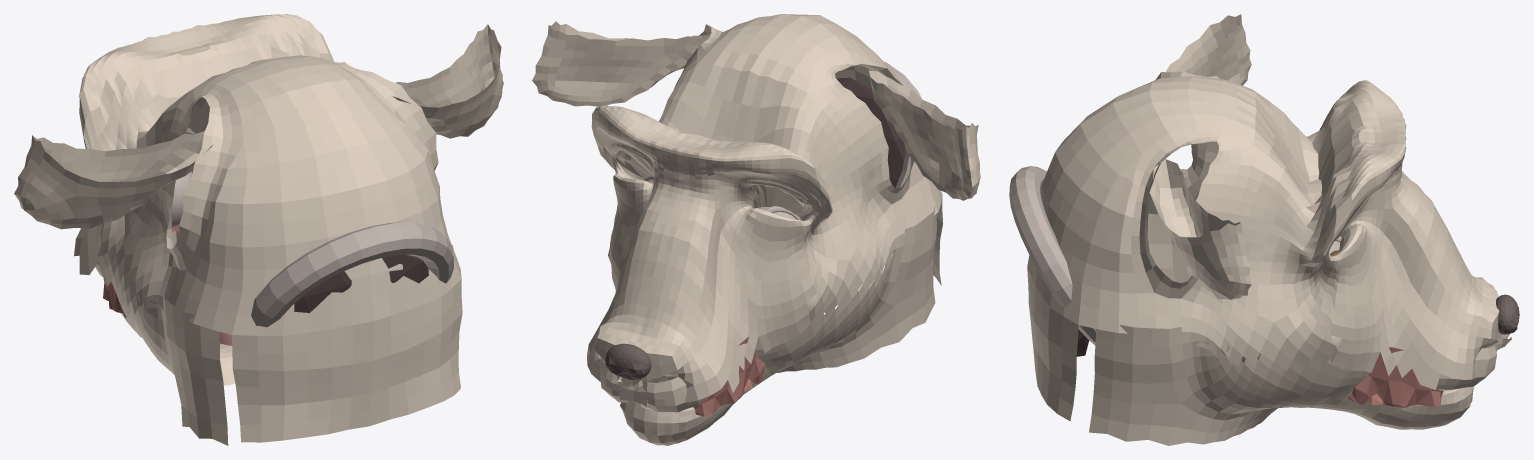
File: jorge_head.glb
3 renders of one model, left to right at view 1: azimuth 30°, elevation 25°; view 2: azimuth 150°, elevation 25°; view 3: azimuth 270°, elevation 25°, orthographic. The views are drawn at different scales.
Visible parts, largest first — view 1: TissueHead, Ear_R, Jaw, NeckSocket, Ear_L, NeckSocketDisc, Eyelid_R; view 2: TissueHead, Jaw, Ear_L, Ear_R, NeckSocketDisc, TeethUpper, NoseLeather, NeckSocket; view 3: TissueHead, Jaw, Ear_L, NeckSocket, Ear_R, TeethUpper, NoseLeather.
Boxes of the visible parts, x1,y1,x2,y2 form: TissueHead: (74, 14, 462, 442); Ear_R: (14, 130, 212, 229); Jaw: (95, 231, 453, 445); NeckSocket: (251, 222, 453, 327); Ear_L: (392, 24, 503, 138); NeckSocketDisc: (294, 254, 428, 313); Eyelid_R: (170, 171, 192, 227); TissueHead: (587, 14, 942, 407); Jaw: (600, 205, 936, 445); Ear_L: (532, 21, 710, 106); Ear_R: (869, 70, 980, 200); NeckSocketDisc: (836, 77, 904, 187); TeethUpper: (693, 337, 765, 416); NoseLeather: (605, 343, 651, 379); NeckSocket: (884, 62, 921, 187); TissueHead: (1027, 71, 1499, 420); Jaw: (1089, 213, 1511, 445); Ear_L: (1149, 159, 1251, 299); NeckSocket: (1009, 166, 1095, 345); Ear_R: (1166, 14, 1251, 85); TeethUpper: (1220, 347, 1443, 407); NoseLeather: (1496, 294, 1519, 334).
Bounding box in the file's own units: 1.12 × 0.8015 × 1.1.
